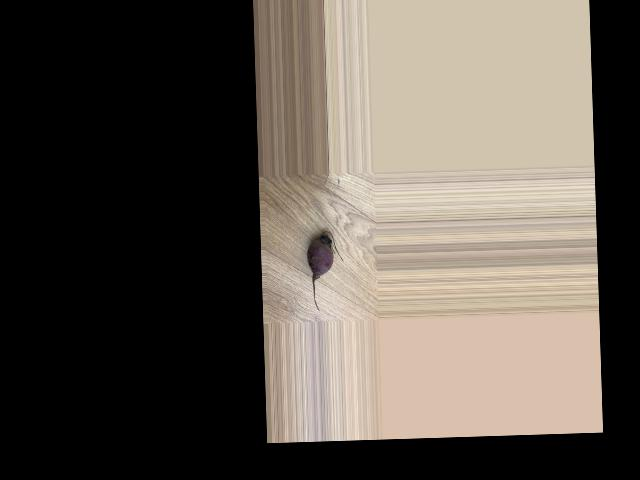beet: (305, 231, 344, 312)
